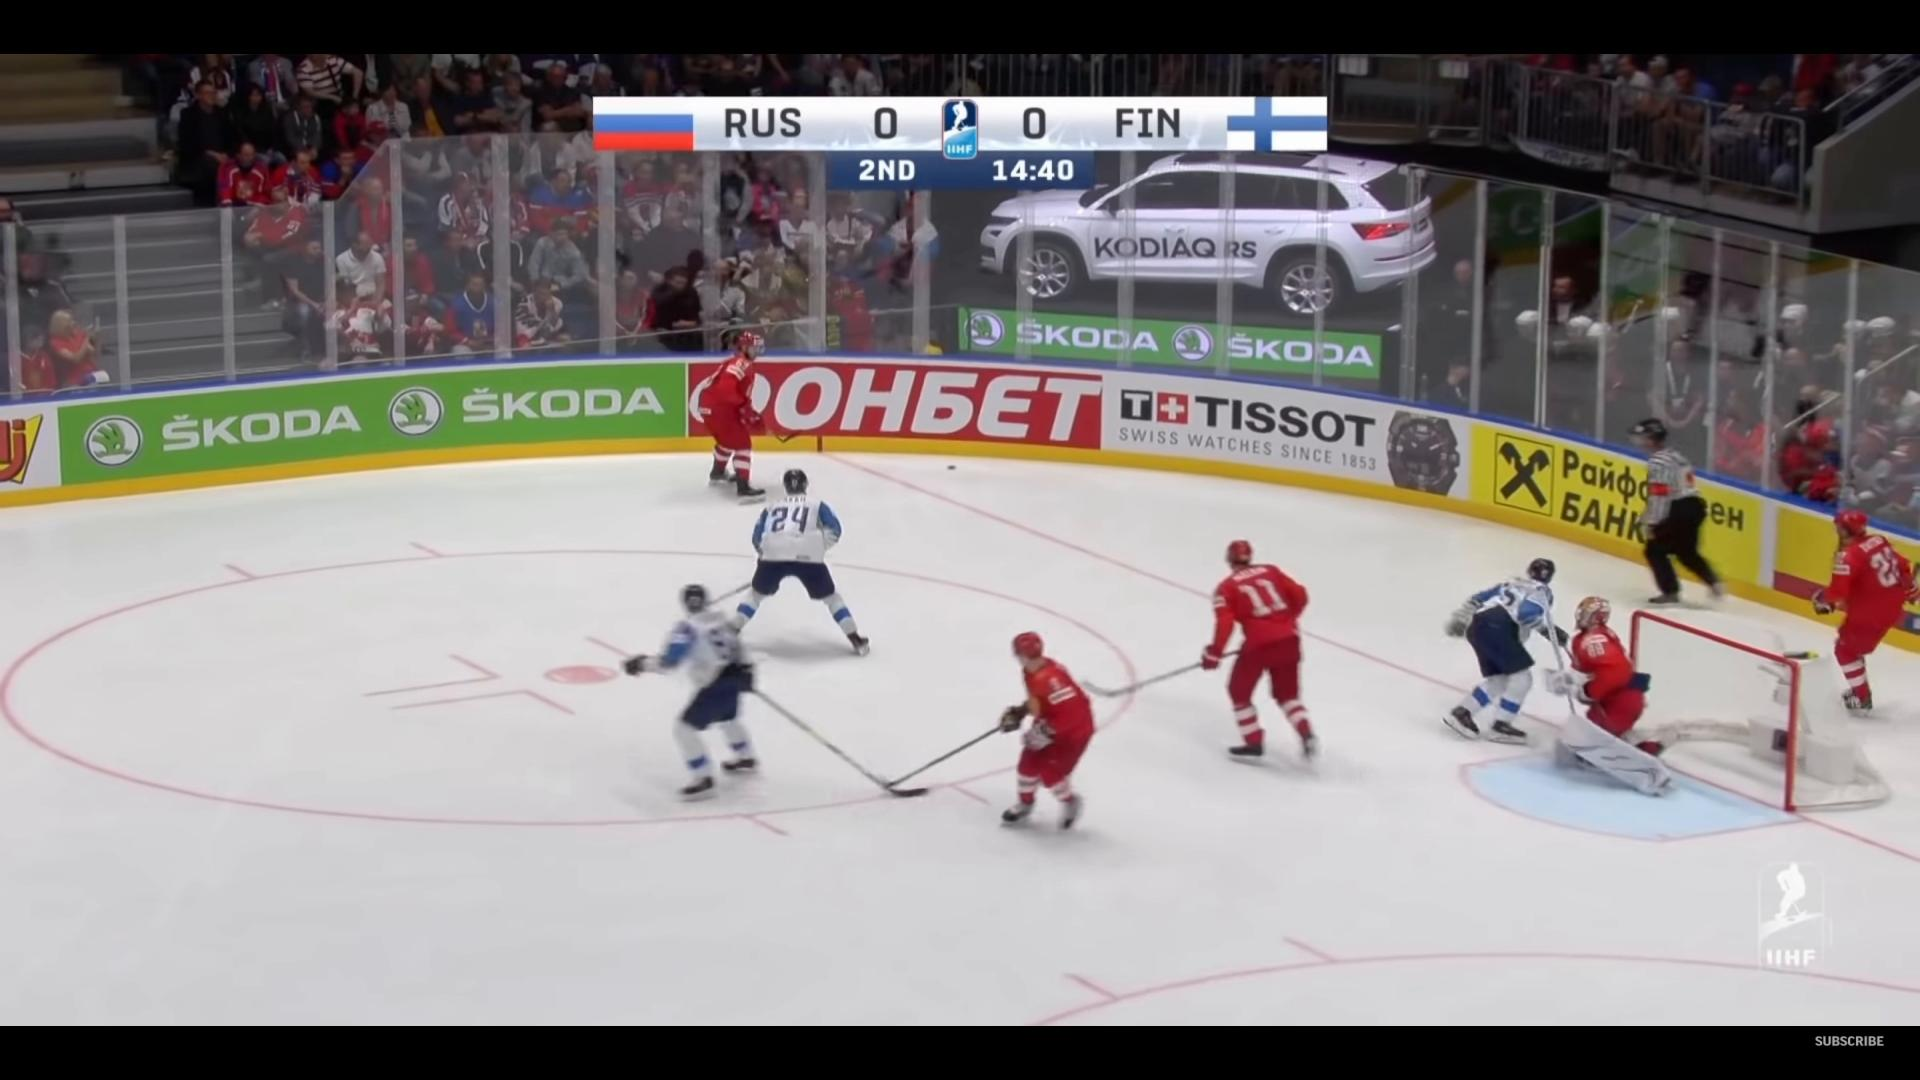puck: (945, 464, 957, 469)
